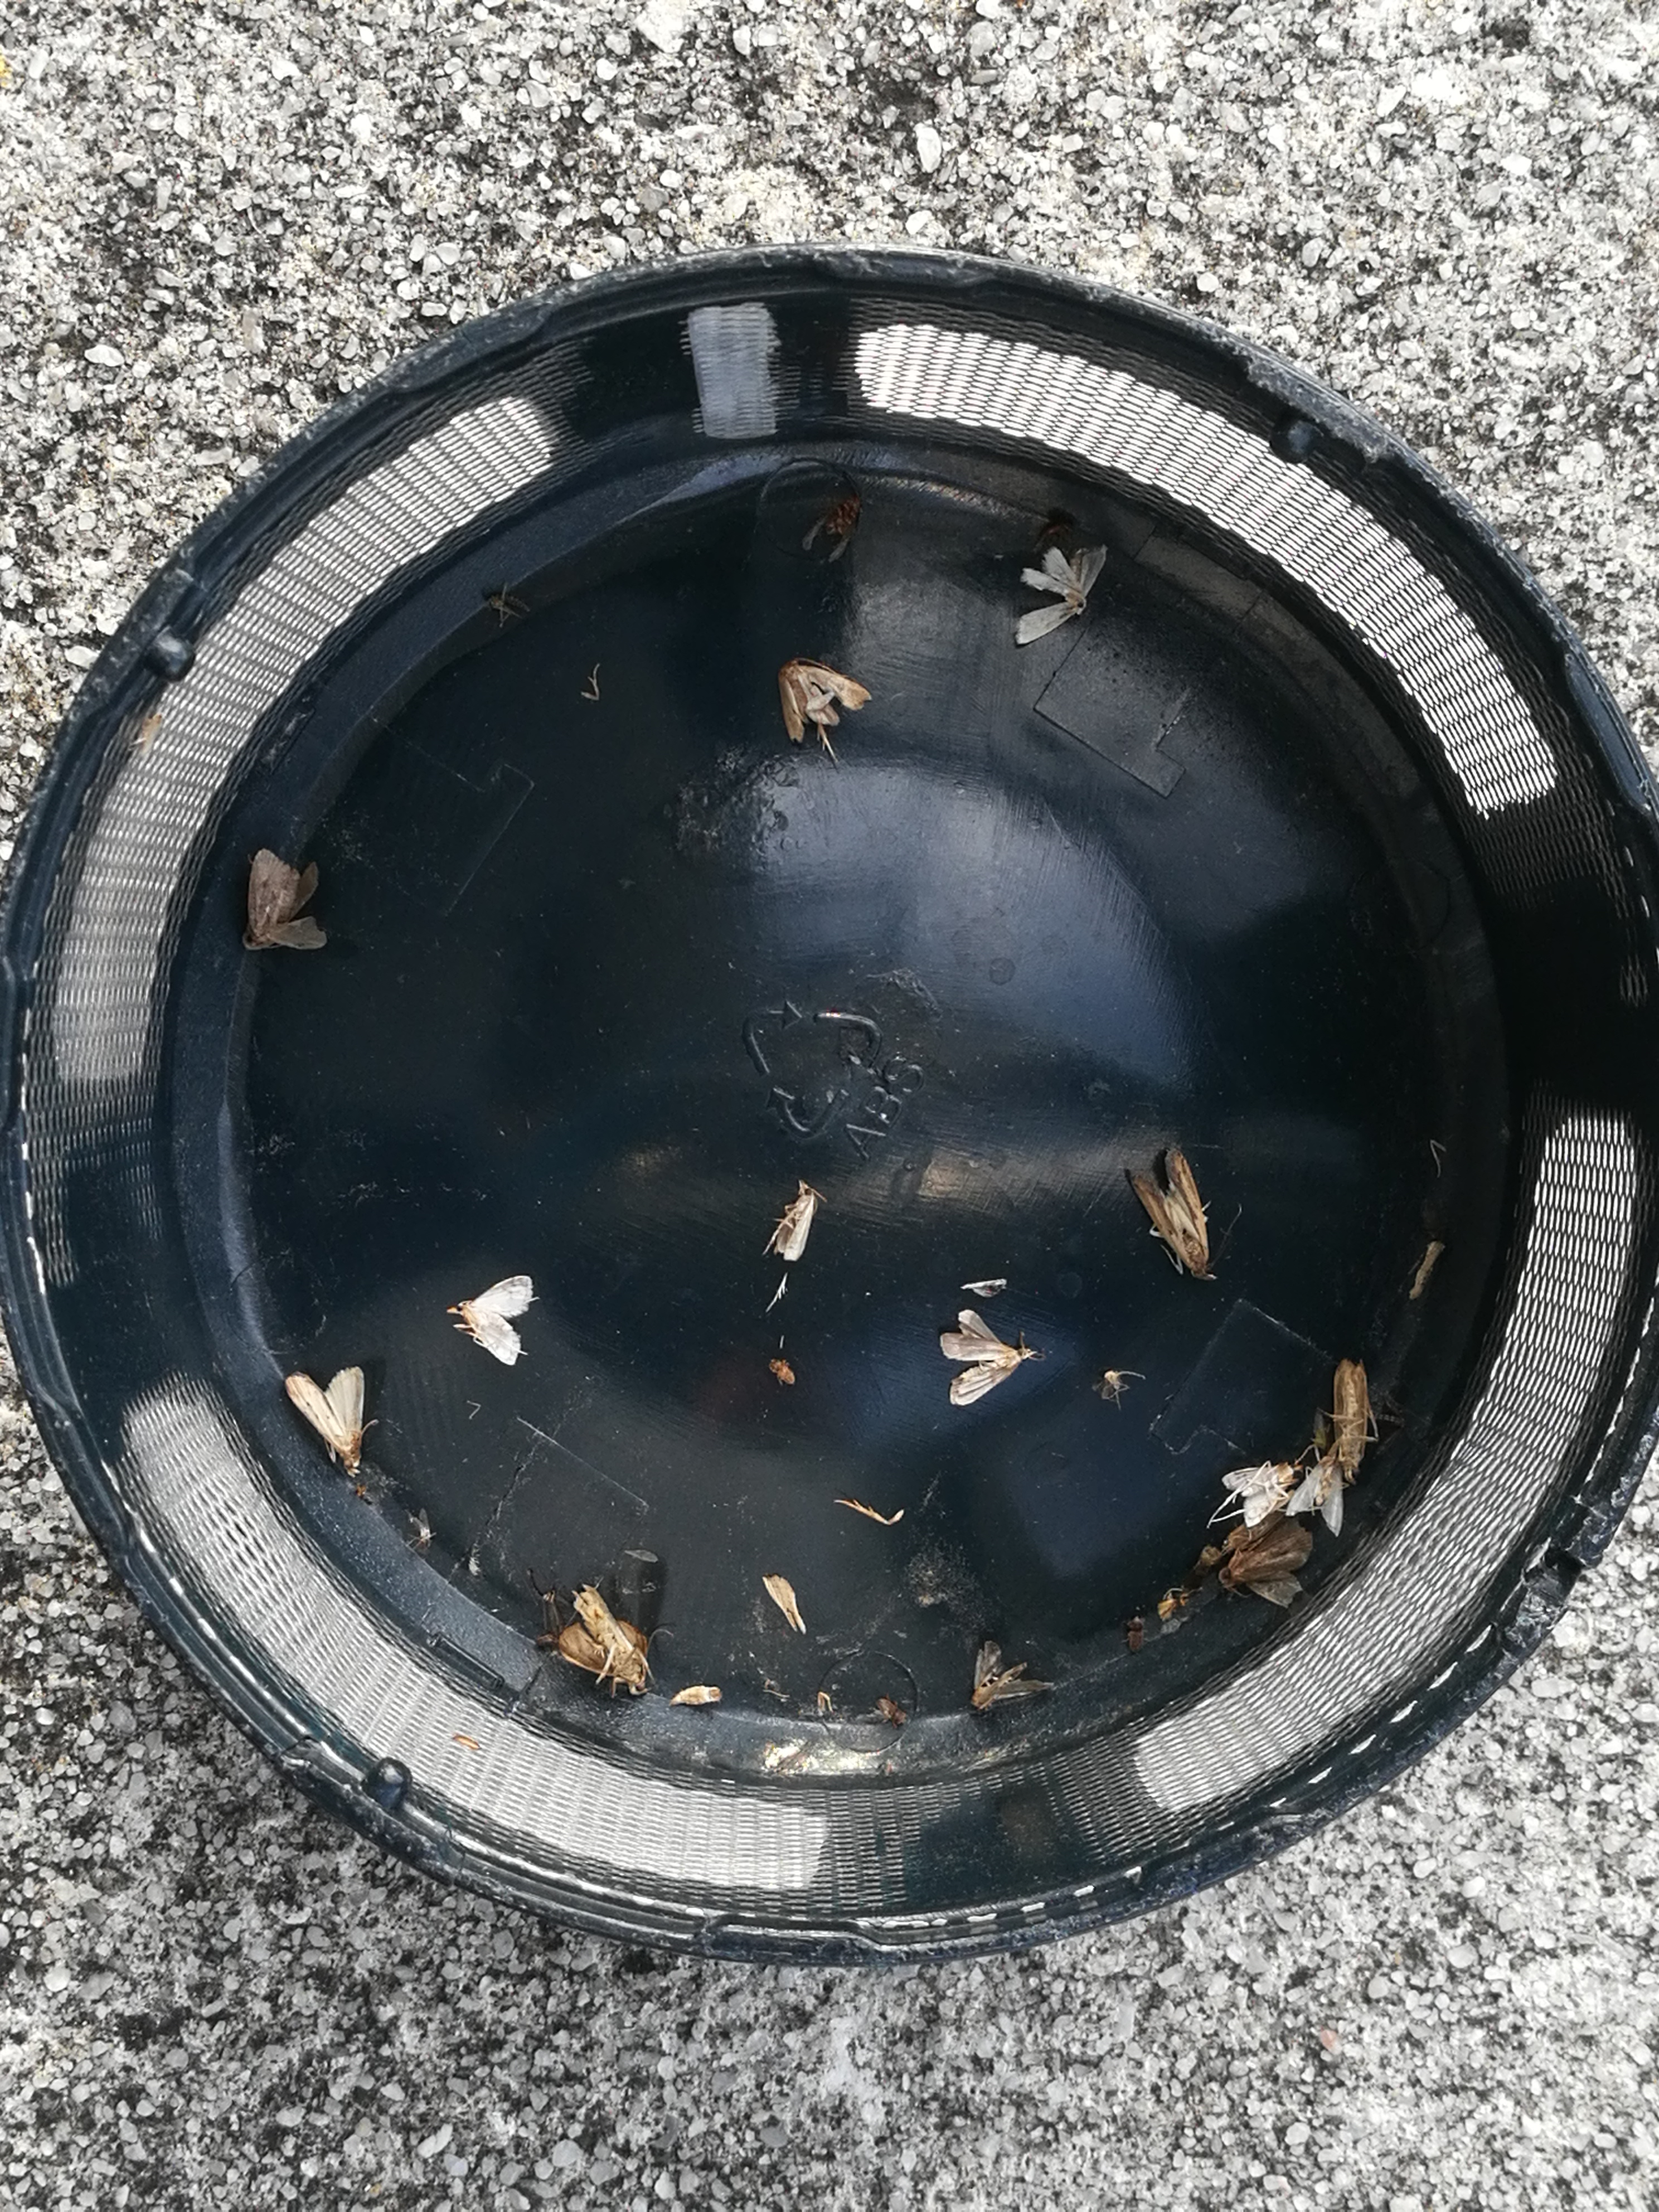mosquito: (1335, 1357, 1364, 1470), (1222, 1519, 1274, 1554)
moth: (1127, 1150, 1209, 1280), (1016, 547, 1105, 644), (941, 1310, 1033, 1402), (244, 848, 324, 949), (558, 1588, 641, 1684), (288, 1366, 361, 1472), (448, 1277, 533, 1366), (1222, 1522, 1312, 1606), (781, 660, 870, 740), (972, 1642, 1056, 1710), (1222, 1458, 1300, 1524), (1286, 1458, 1342, 1538), (774, 1183, 814, 1259)
